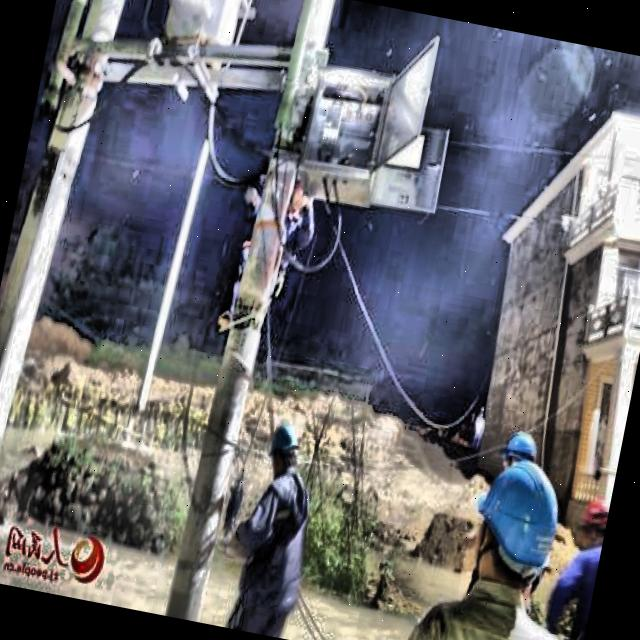helmet: (463, 448, 563, 604), (264, 414, 304, 479), (494, 426, 538, 482), (574, 491, 610, 558)
